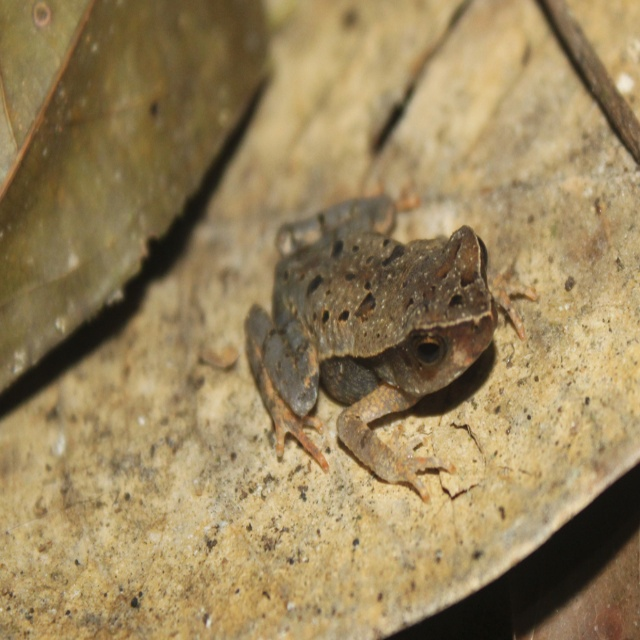Frog: (244, 190, 542, 503)
